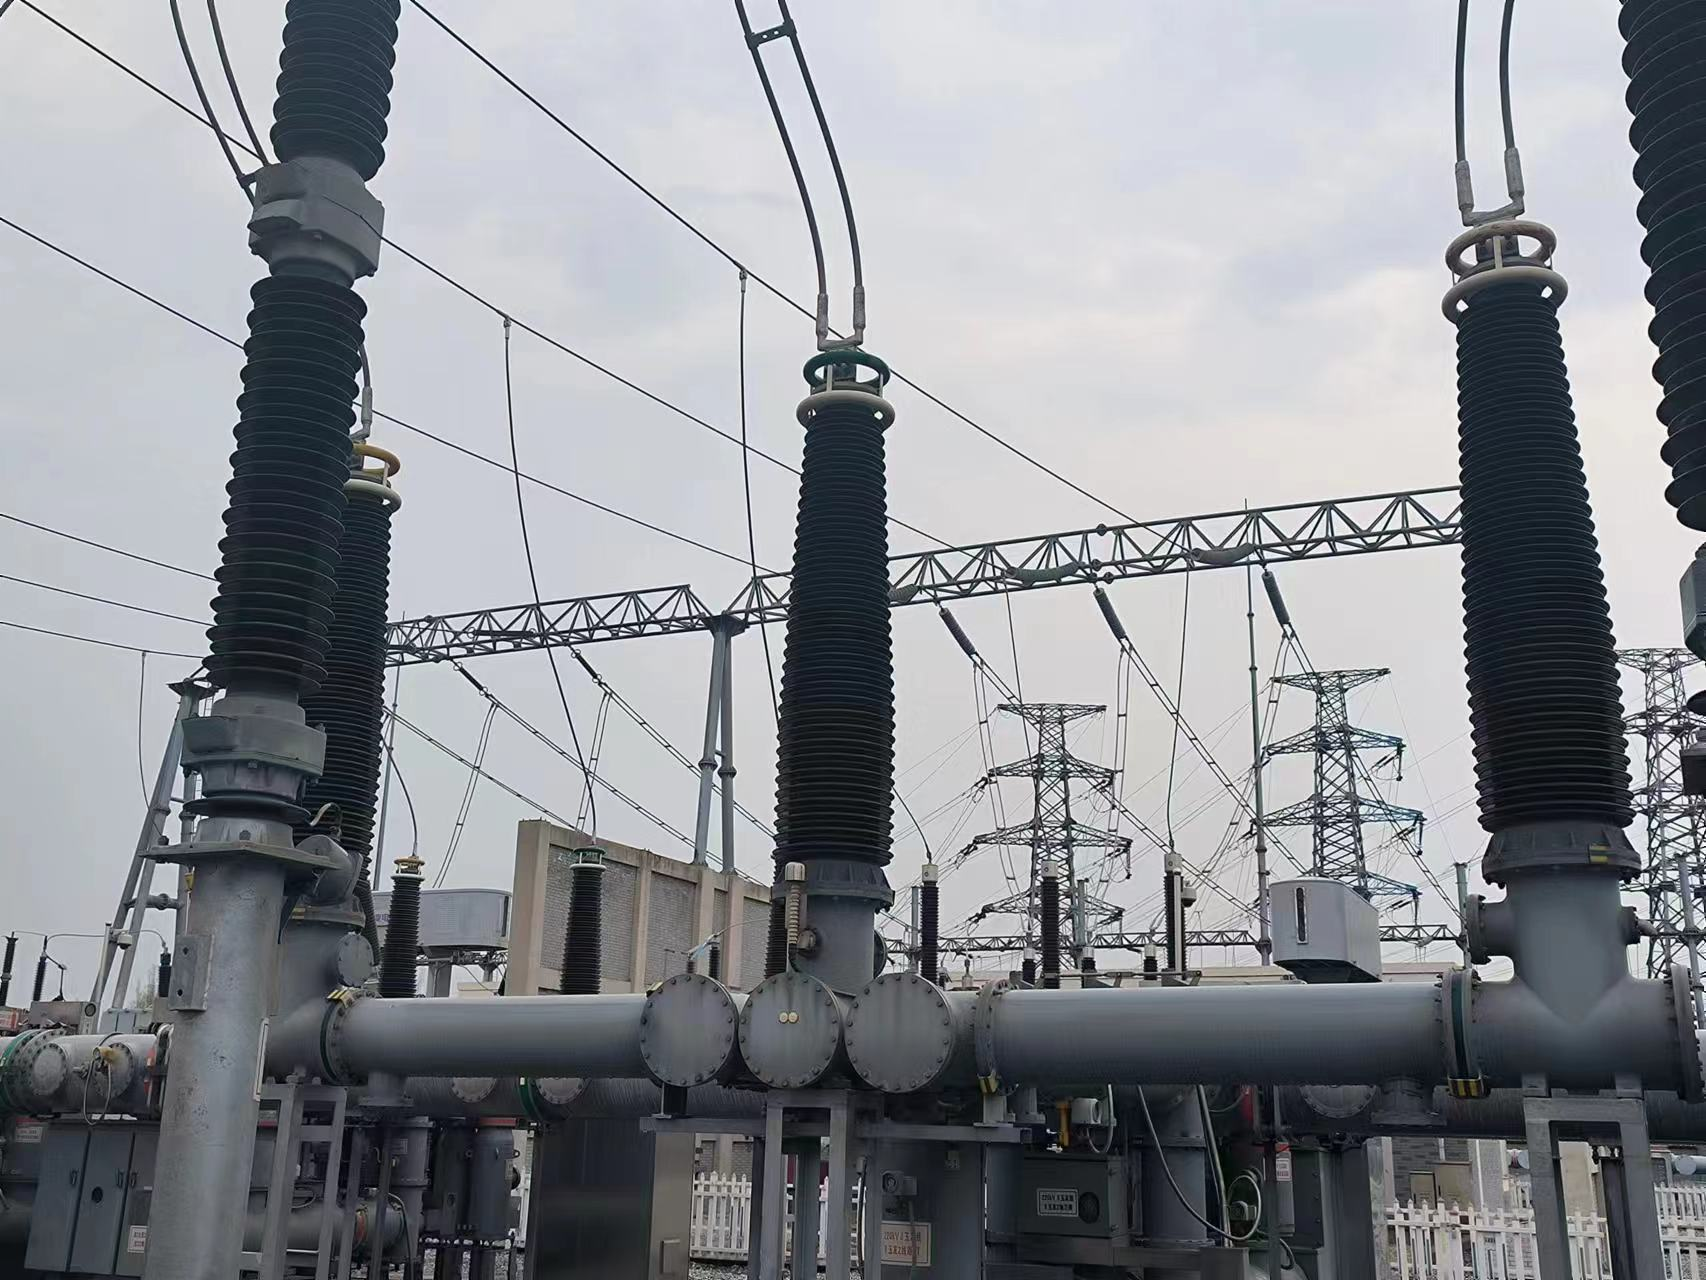Voltage transformer: (1436, 216, 1635, 827), (769, 346, 905, 877)
